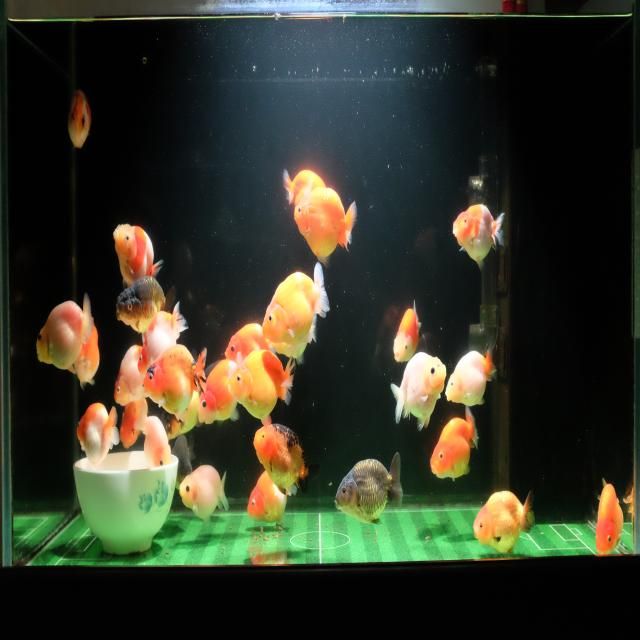Goldfish: (260, 260, 330, 346), (32, 286, 93, 381), (142, 340, 208, 426), (332, 448, 403, 527), (293, 184, 359, 268), (228, 346, 297, 426), (252, 420, 320, 499), (390, 347, 448, 433), (472, 485, 536, 557), (196, 350, 249, 428), (428, 405, 480, 484), (136, 300, 191, 374), (451, 201, 505, 275), (111, 217, 163, 292), (444, 340, 499, 408), (74, 394, 120, 472), (178, 462, 229, 527), (114, 282, 175, 334), (593, 473, 626, 558), (112, 341, 152, 411), (224, 320, 278, 368), (245, 468, 288, 525), (392, 298, 428, 366), (281, 164, 327, 209), (66, 86, 95, 156), (74, 318, 102, 390), (141, 412, 174, 472), (118, 391, 148, 452)
